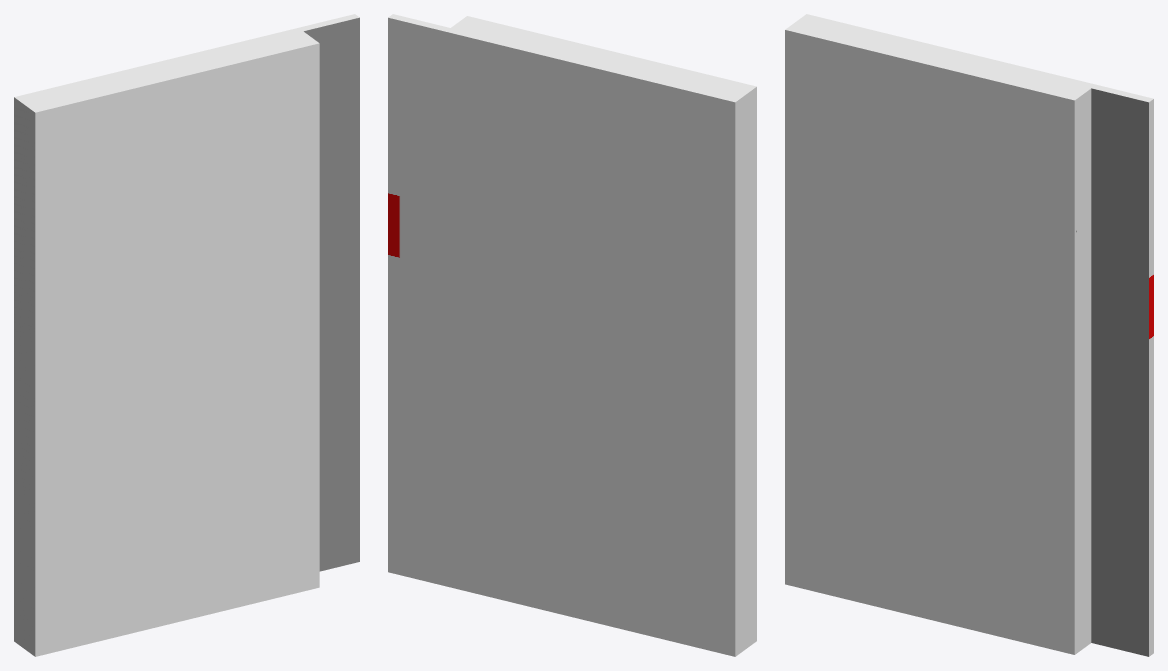
File: bench_lid.obj
3 views of the same model, side by side, from view 1: azimuth 30°, elevation 25°; view 2: azimuth 150°, elevation 25°; view 3: azimuth 330°, elevation 25° (orthographic).
Bounding box in the file's own units: 0.603 × 0.92 × 0.065.
1 material, 1 textured.
